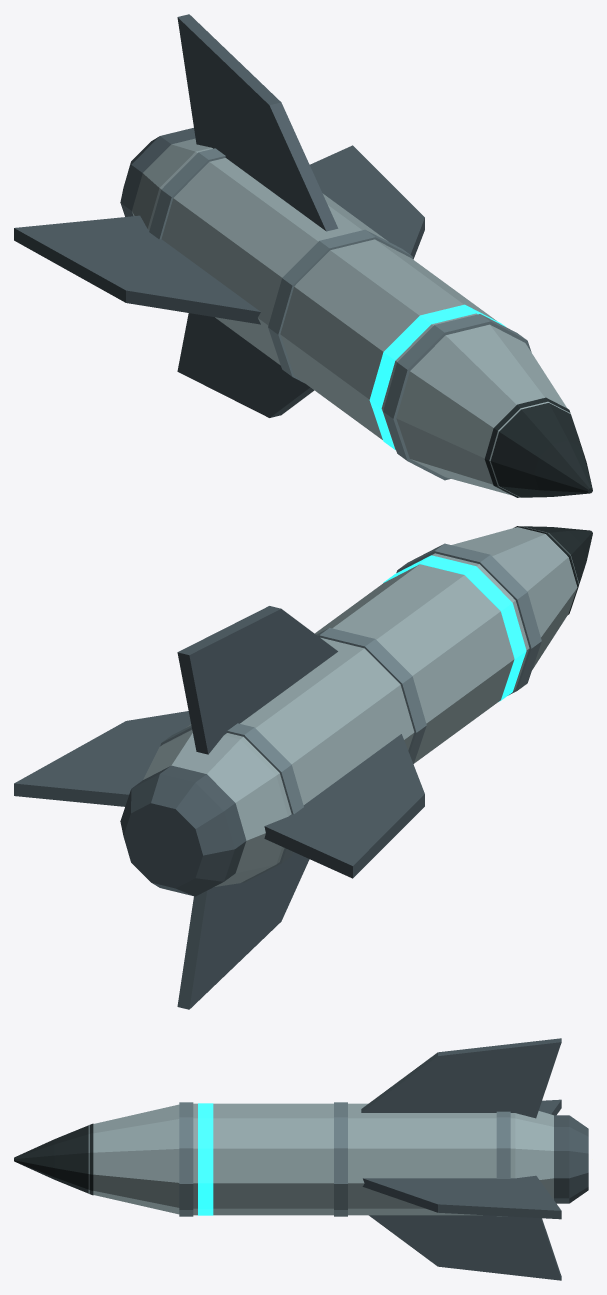
The model's file is needle.glb.
3 renders of one model, top to bottom at view 1: azimuth 30°, elevation 25°; view 2: azimuth 150°, elevation 25°; view 3: azimuth 270°, elevation 25°, orthographic. The views are drawn at different scales.
Parts seen in each view (by area): view 1: Tapered missile shell, Exhaust nozzle, Dark nose cap, Casing collar, Cyan identification band; view 2: Exhaust nozzle, Tapered missile shell, Casing collar, Cyan identification band, Dark nose cap; view 3: Tapered missile shell, Exhaust nozzle, Casing collar, Dark nose cap, Cyan identification band.
Part boxes in pixels (bbox=[...]): Tapered missile shell: bbox=[132, 138, 570, 497]; Exhaust nozzle: bbox=[14, 14, 424, 417]; Dark nose cap: bbox=[484, 397, 592, 497]; Casing collar: bbox=[149, 148, 531, 480]; Cyan identification band: bbox=[369, 304, 506, 450]; Exhaust nozzle: bbox=[14, 606, 424, 1009]; Tapered missile shell: bbox=[143, 526, 579, 886]; Casing collar: bbox=[160, 543, 541, 882]; Cyan identification band: bbox=[383, 555, 526, 701]; Dark nose cap: bbox=[514, 526, 592, 614]; Tapered missile shell: bbox=[88, 1103, 553, 1215]; Exhaust nozzle: bbox=[361, 1038, 588, 1280]; Casing collar: bbox=[179, 1102, 510, 1216]; Dark nose cap: bbox=[14, 1123, 93, 1195]; Cyan identification band: bbox=[198, 1103, 213, 1215].
Bounding box in the file's own units: 0.68 × 0.68 × 1.5.
